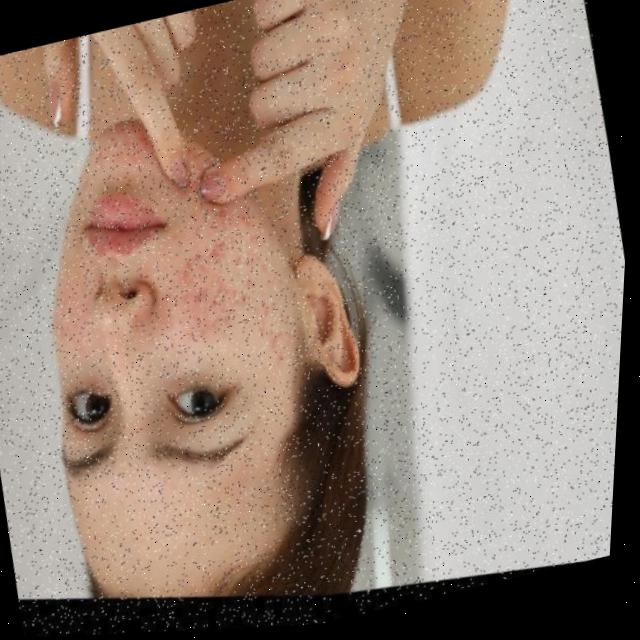Acne: (166, 245, 269, 356)
